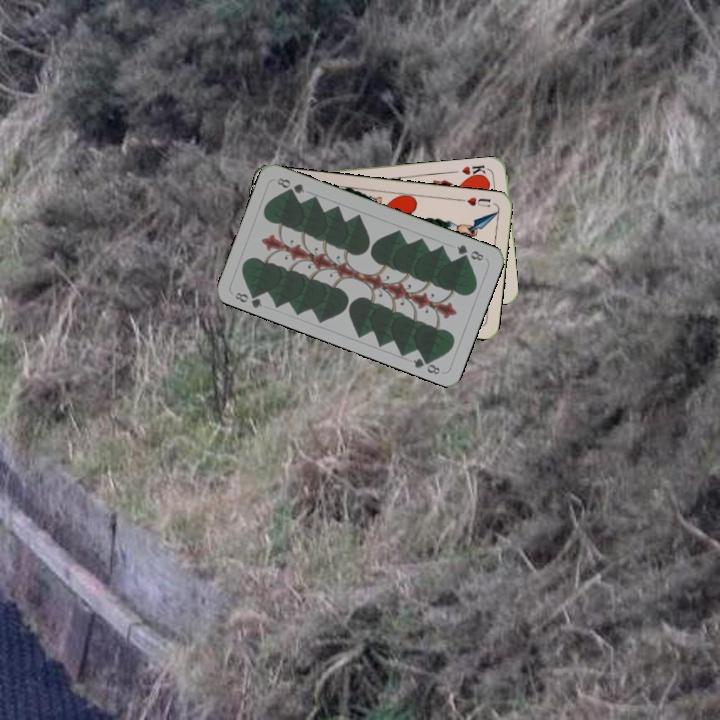G8: (231, 286, 265, 310), (452, 240, 486, 263)
HK: (458, 161, 492, 181)
HU: (456, 193, 493, 209)
